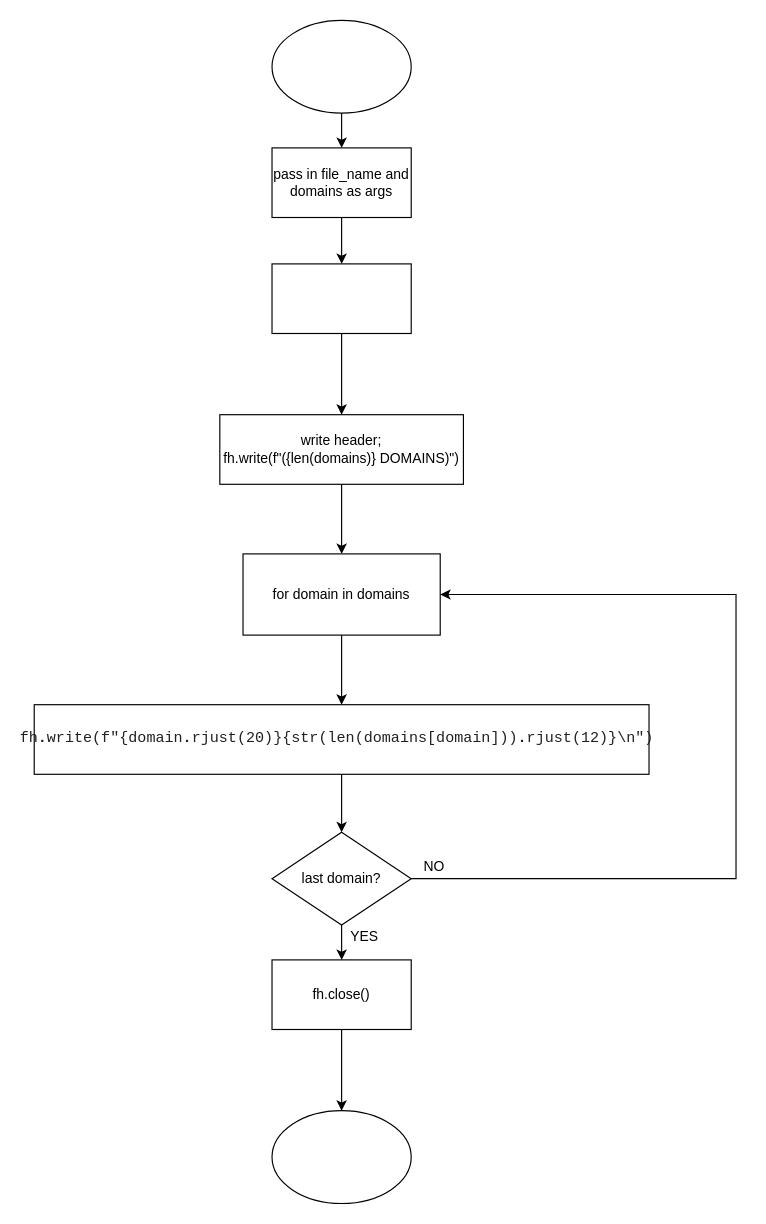
Image size: 766x1224. Some labels were removed from this diagram. Each missing label, with the box of its shape:
End: (271, 1110, 411, 1204)
fh = open(file_name, "a"): (271, 263, 411, 334)
Start: (271, 19, 411, 113)
